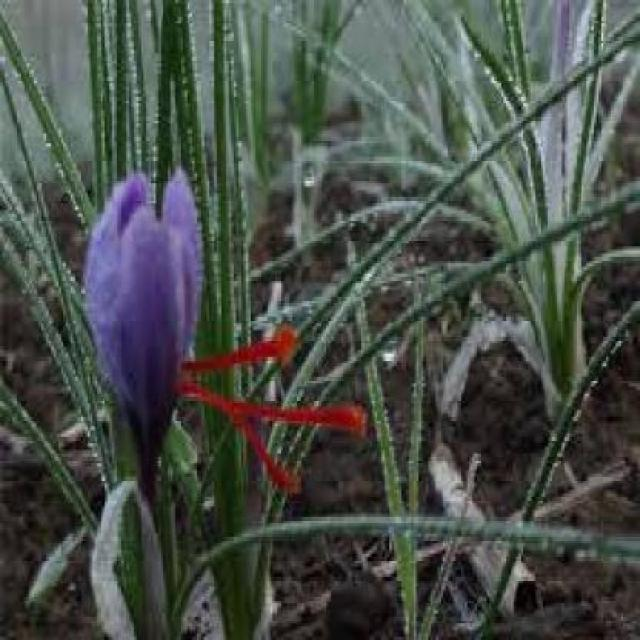Flower: (86, 173, 197, 475)
stigma: (176, 378, 372, 442), (223, 406, 310, 500), (176, 325, 302, 376)
